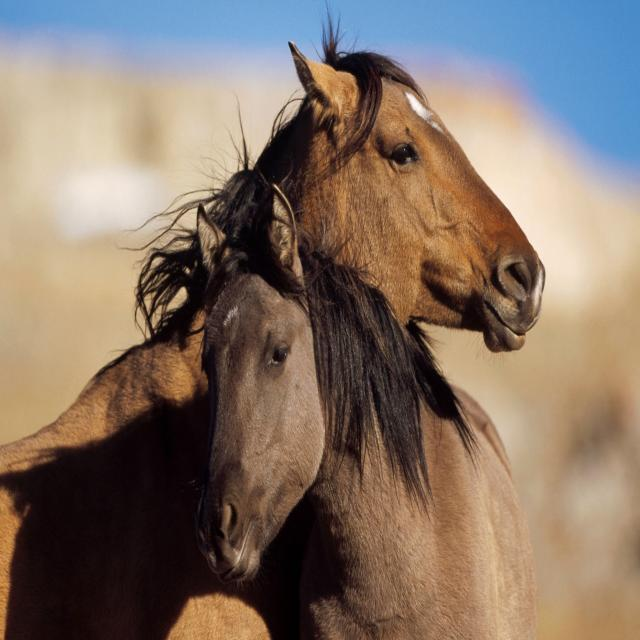horse: (196, 184, 536, 638), (258, 26, 545, 352)
